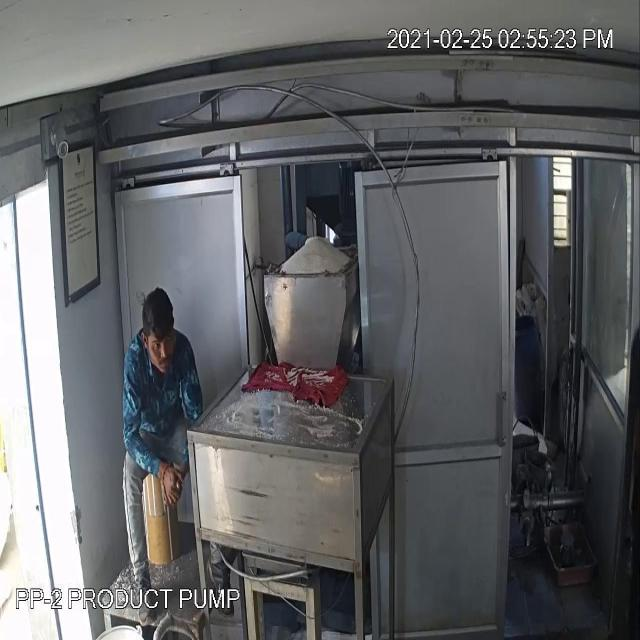no-helmet: (131, 268, 183, 348)
